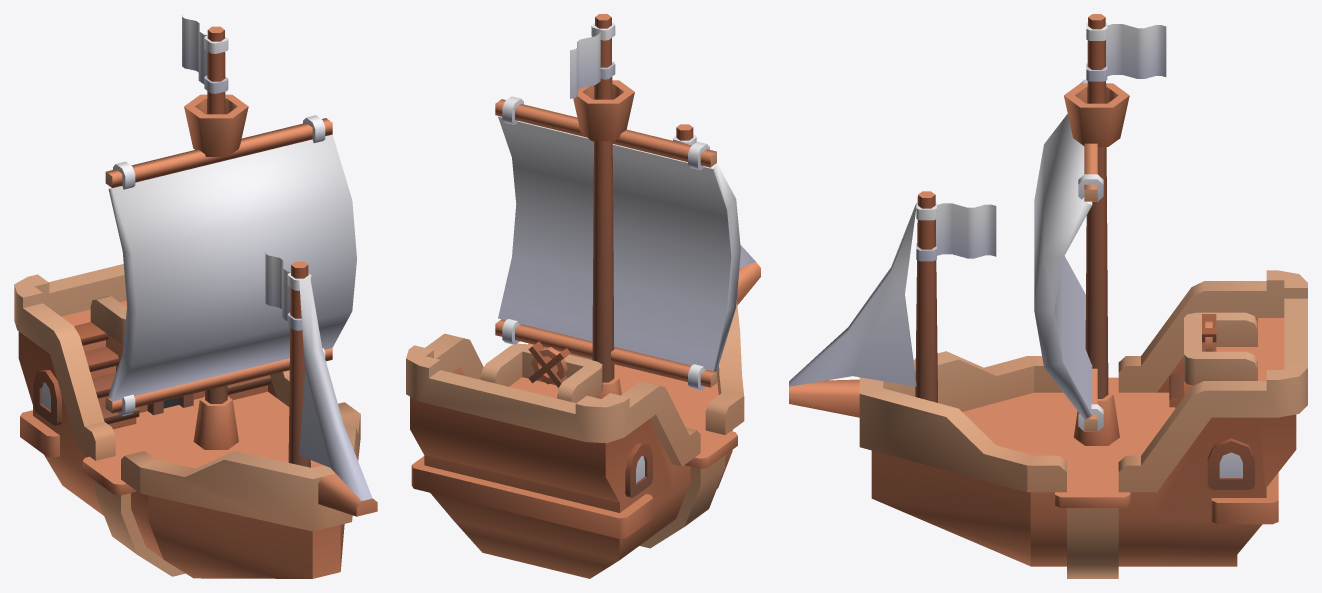
File: boat_2.fbx
3 views of the same model, side by side, from view 1: azimuth 30°, elevation 25°; view 2: azimuth 150°, elevation 25°; view 3: azimuth 270°, elevation 25° (orthographic). The views are drawn at different scales.
Visible parts, largest first — view 1: boat_2; view 2: boat_2; view 3: boat_2.
Boxes of the visible parts, x1,y1,x2,y2 form: boat_2: [14, 15, 377, 578]; boat_2: [406, 14, 760, 578]; boat_2: [789, 14, 1307, 578].
Size of the model in its own units: 4.8 by 9.96 by 8.8.
Materials: 1 (1 with a texture image).
